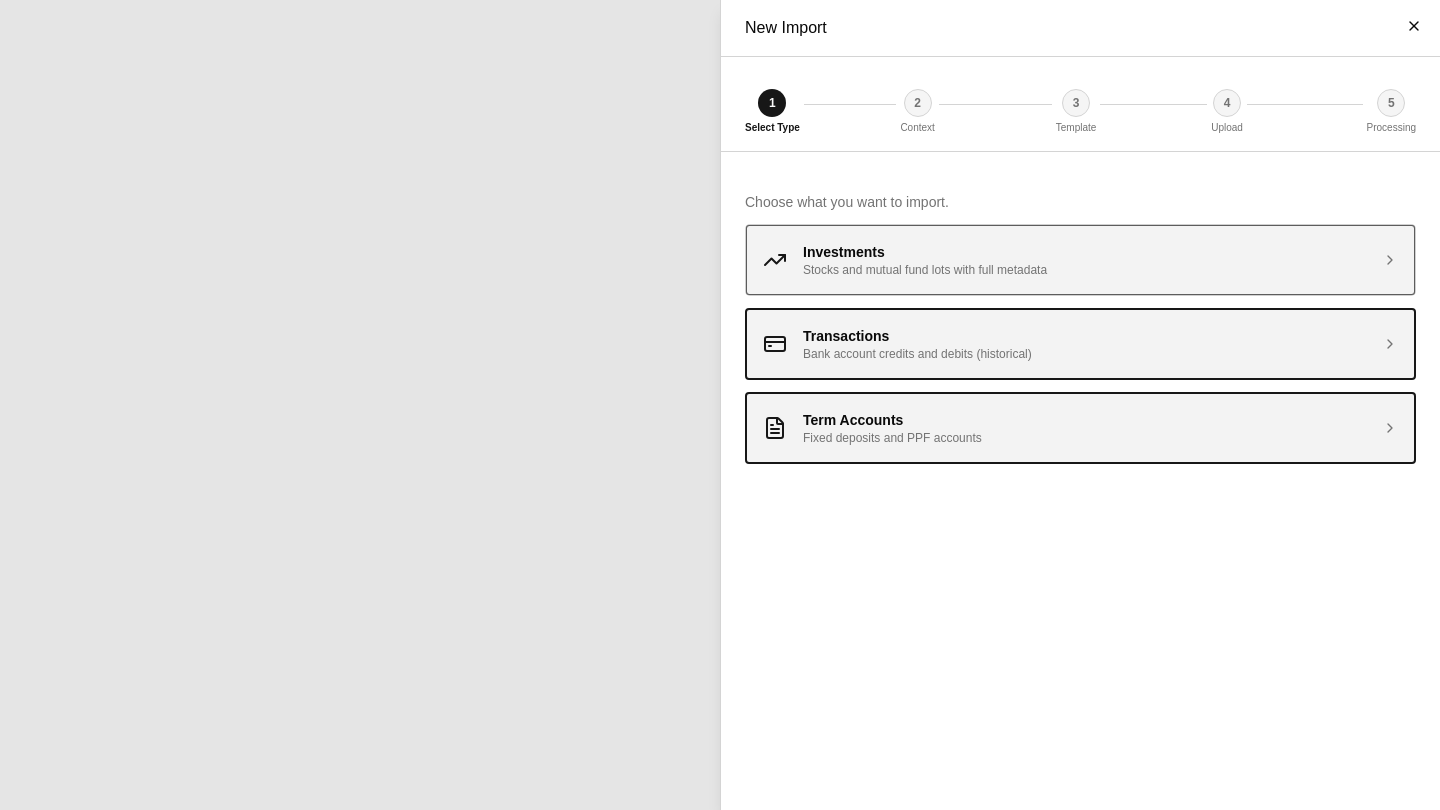
Test: ImportWizard – Step 1: Select Type › clicking "Term Accounts" advances to step 2 (Context)
Click the text "Term Accounts": (853, 420) left=803, top=412, right=903, bottom=428
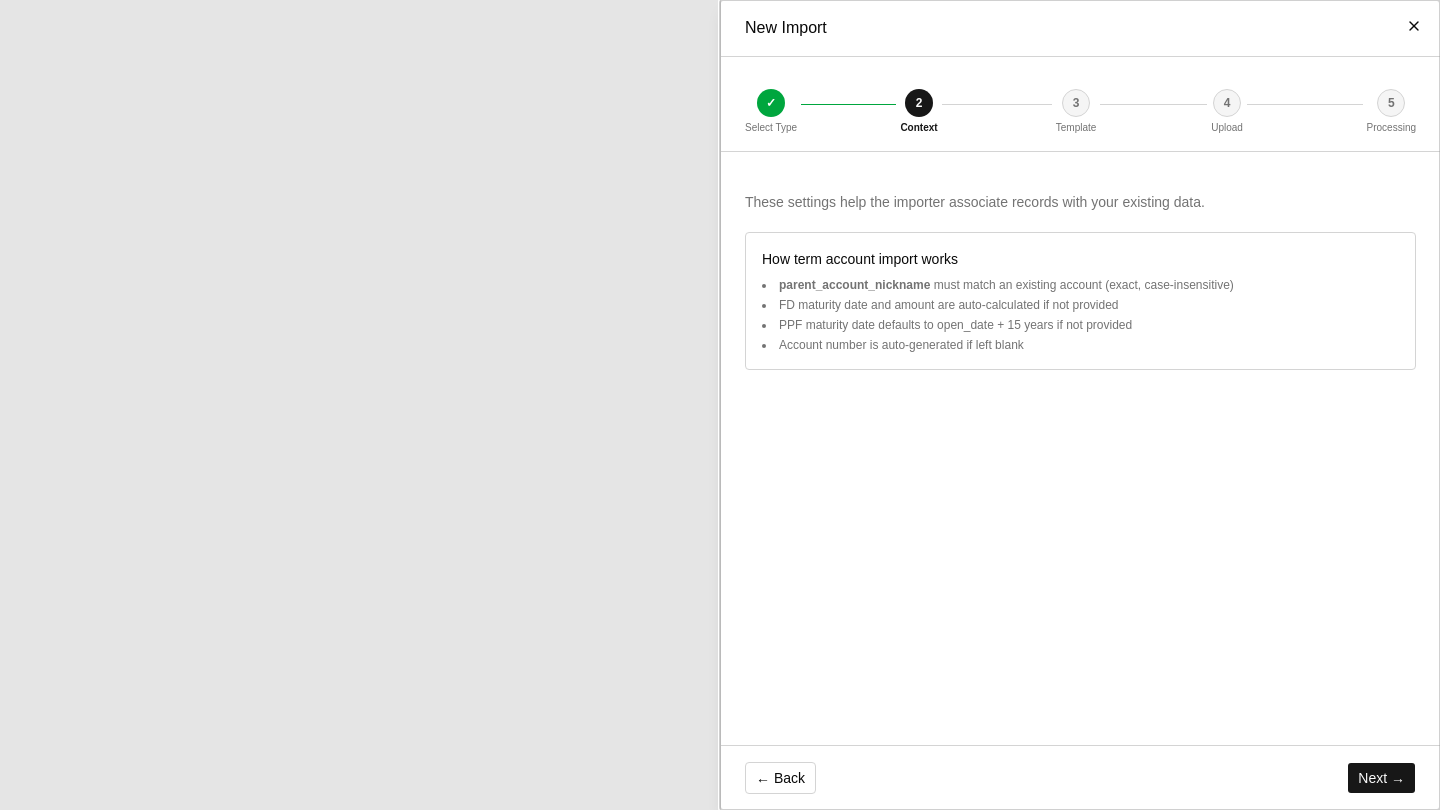
Check: the text "How term account import works" is shown, box left=762, top=251, right=958, bottom=267
